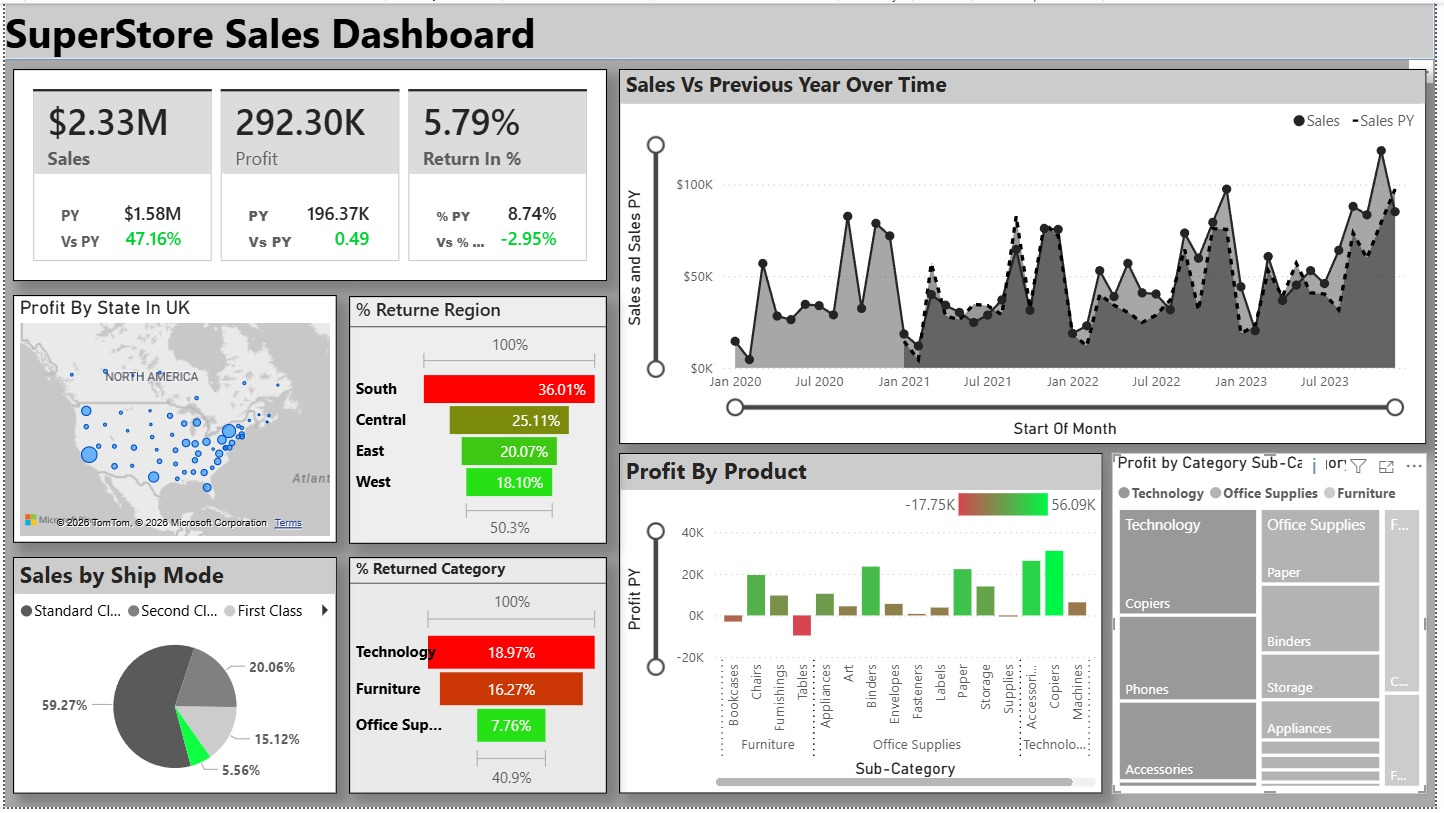

The dashboard page shown, as its layout file describes it:
{"tool":"powerbi","page":{"name":"Dashboard","canvas":[1280,720],"ordinal":0},"visuals":[{"type":"shape","box":[1110,0,30,32],"z":0},{"type":"cardVisual","fields":{"Data":["Key Measure.Sales","Key Measure.Profit","Key Measure.% Returned Orders"]},"box":[7,59,532,190],"z":0},{"type":"shape","box":[0,0,1280,50.6],"z":1000},{"type":"lineChart","title":"Sales Vs Previous Year Over Time","fields":{"Y":["Key Measure.Sales","Key Measure.Sales PY"],"Category":["Date Table.Start Of Month"]},"box":[550,59,723,336],"z":2000},{"type":"columnChart","title":"Profit By Product","fields":{"Category":["Orders.Category","Orders.Sub-Category"],"Y":["Key Measure.Profit PY"]},"box":[550,403,433,305],"z":3000},{"type":"map","title":"Profit By State In UK","fields":{"Category":["Orders.State/Province"],"Size":["Key Measure.Sales"]},"box":[6.8,261.6,289.8,221.8],"z":5000},{"type":"funnel","title":"% Returne Region","fields":{"Category":["Orders.Region"],"Y":["Key Measure.% Returned Orders"]},"box":[308,262,231,222],"z":6000},{"type":"pieChart","fields":{"Category":["Orders.Ship Mode"],"Y":["Key Measure.Sales"]},"box":[7,496,290,212],"z":7000},{"type":"funnel","title":"% Returned Category","fields":{"Y":["Key Measure.% Returned Orders"],"Category":["Orders.Category"]},"box":[308,496,231,212],"z":8000},{"type":"treemap","title":"Profit by Category  Sub-Category","fields":{"Values":["Key Measure.Profit"],"Group":["Orders.Category"],"Details":["Orders.Sub-Category"]},"box":[991,403,282,305],"z":9000}]}

Visuals, with their boxes in screenshot pixels (x1, y1, x2, y2), scaled from the page's 1280x720 canvas onto the 1444x813 screenshot:
shape: pyautogui.locateOnScreen(1252, 0, 1286, 36)
cardVisual - Key Measure.Sales x Key Measure.Profit: pyautogui.locateOnScreen(8, 67, 608, 281)
shape: pyautogui.locateOnScreen(0, 0, 1443, 57)
"Sales Vs Previous Year Over Time" lineChart: pyautogui.locateOnScreen(620, 67, 1436, 446)
"Profit By Product" columnChart: pyautogui.locateOnScreen(620, 455, 1109, 799)
"Profit By State In UK" map: pyautogui.locateOnScreen(8, 295, 335, 546)
"% Returne Region" funnel: pyautogui.locateOnScreen(347, 296, 608, 547)
pieChart - Orders.Ship Mode x Key Measure.Sales: pyautogui.locateOnScreen(8, 560, 335, 799)
"% Returned Category" funnel: pyautogui.locateOnScreen(347, 560, 608, 799)
"Profit by Category  Sub-Category" treemap: pyautogui.locateOnScreen(1118, 455, 1436, 799)
